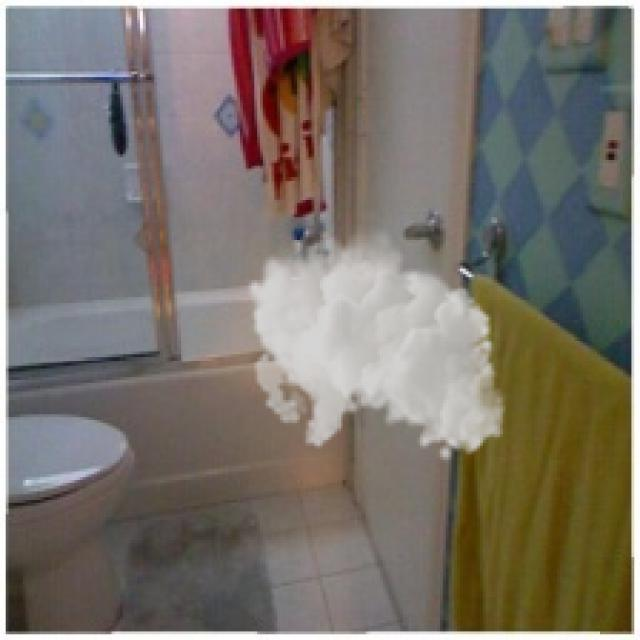Smoke: (245, 223, 506, 463)
